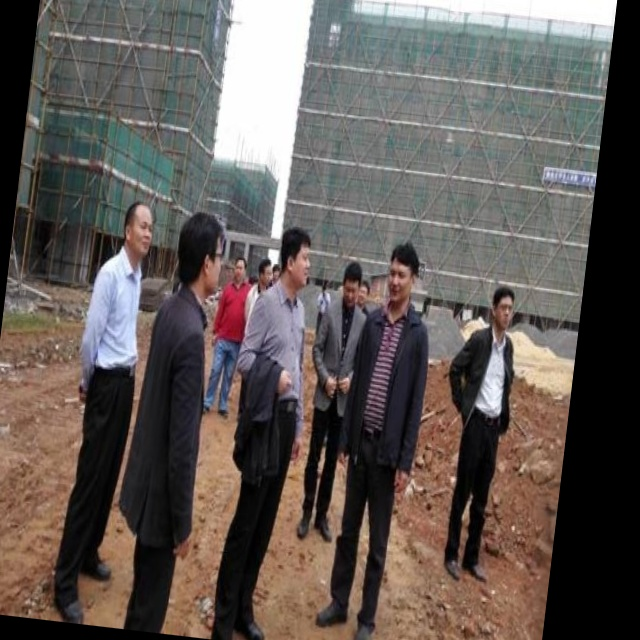Sin_Casco_Mascarrilla: (274, 223, 315, 296), (120, 197, 157, 264)
Sin_Chaleco: (114, 286, 221, 555), (344, 302, 432, 455)
